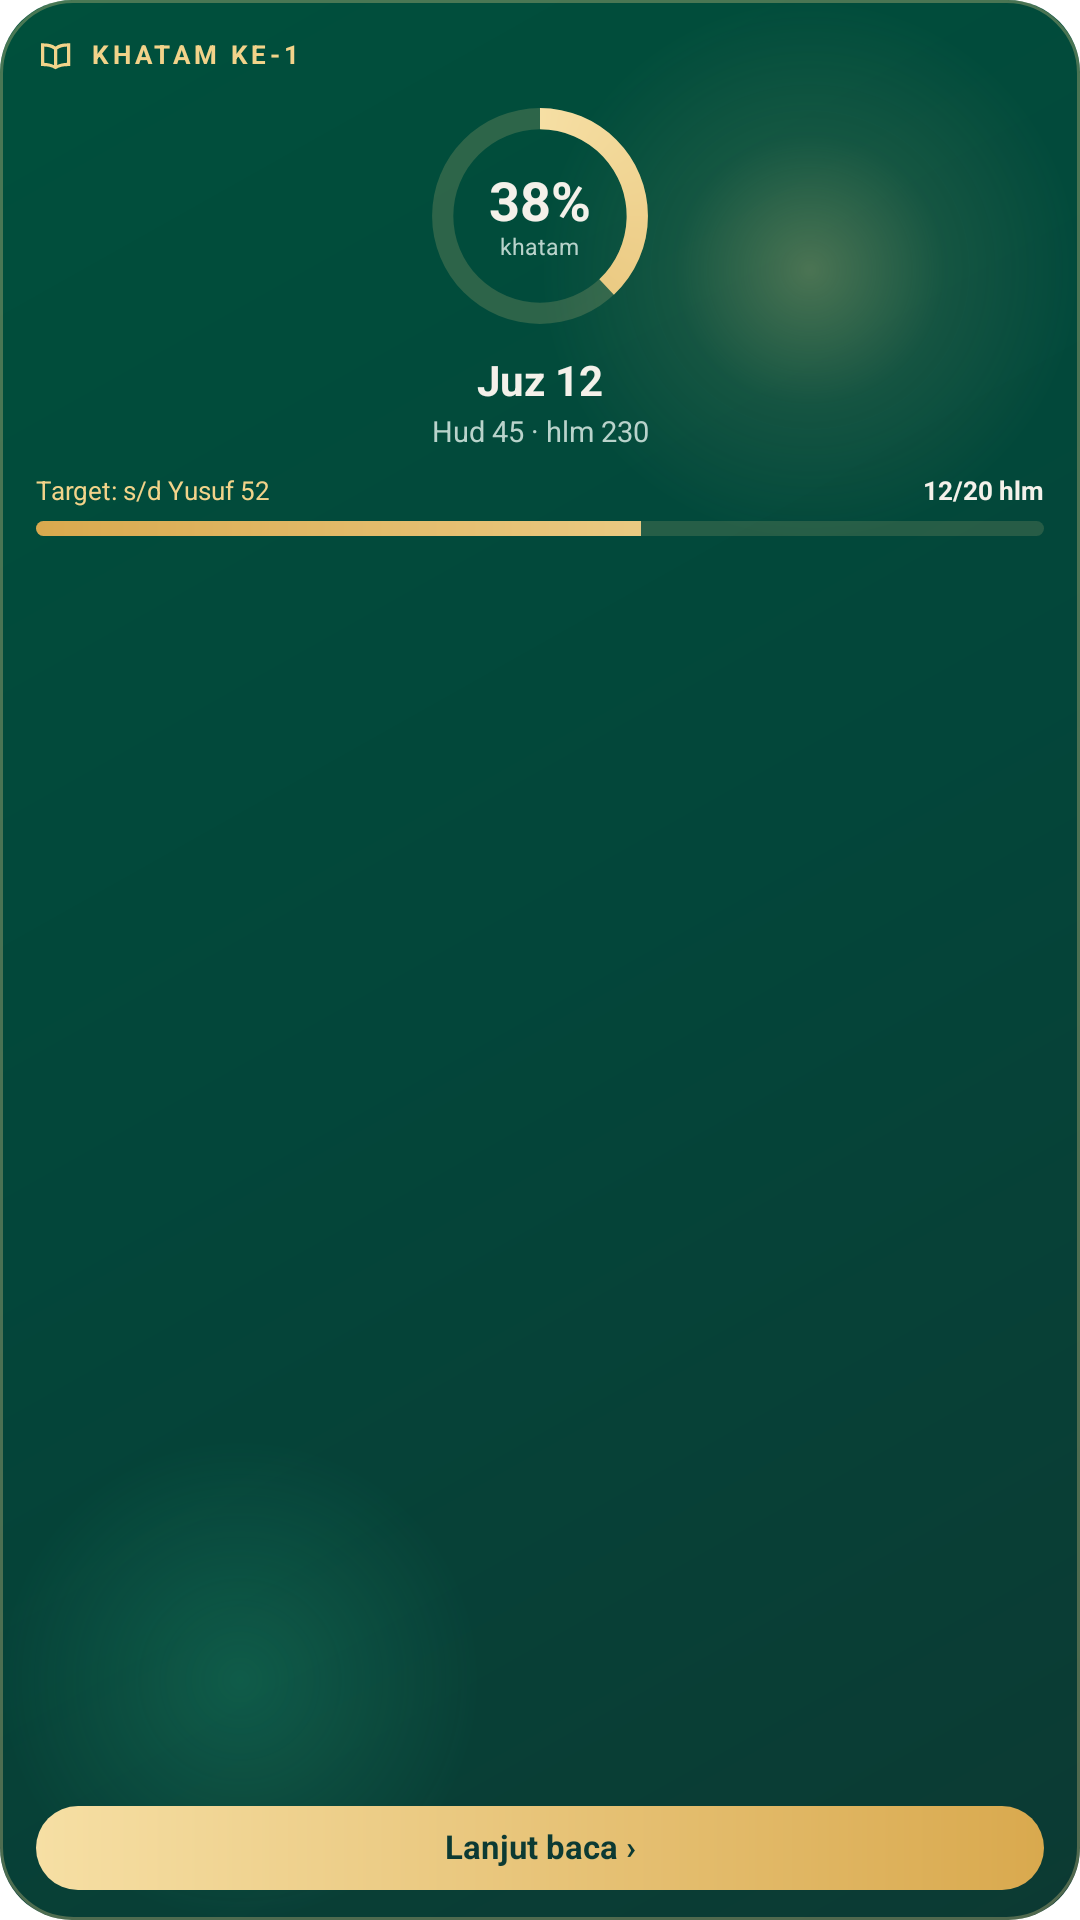

Where icons sit on this 1080w x 1920h app screen, as (left=x1, top=y1, right=x2, bottom=y2):
tracker book: (left=41, top=43, right=71, bottom=70)
